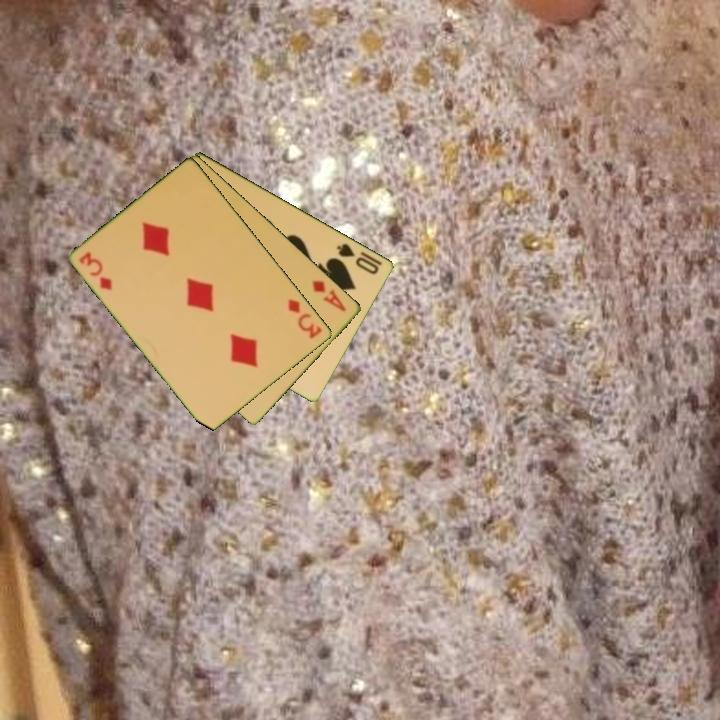10s: (334, 239, 382, 277)
3d: (285, 295, 325, 341), (76, 248, 116, 293)
Ad: (309, 276, 350, 314)
